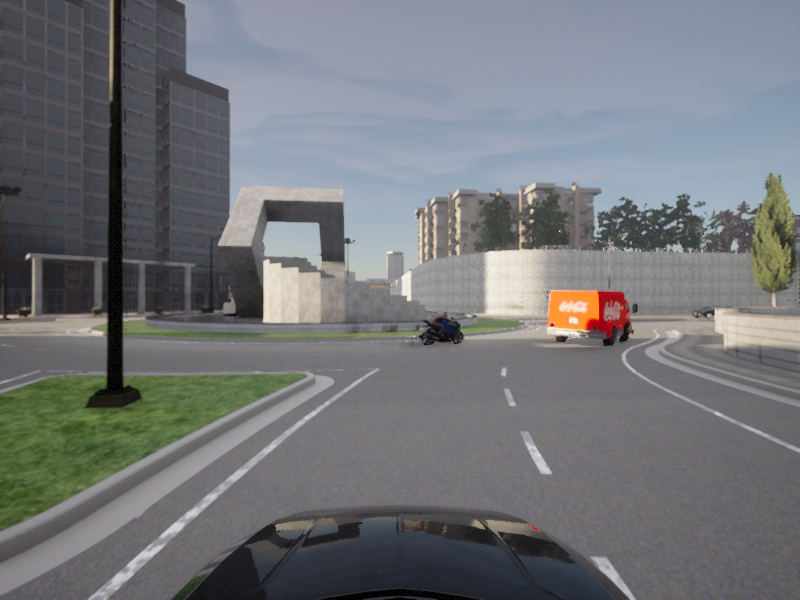vehicle: (542, 289, 641, 349), (416, 311, 469, 347)
